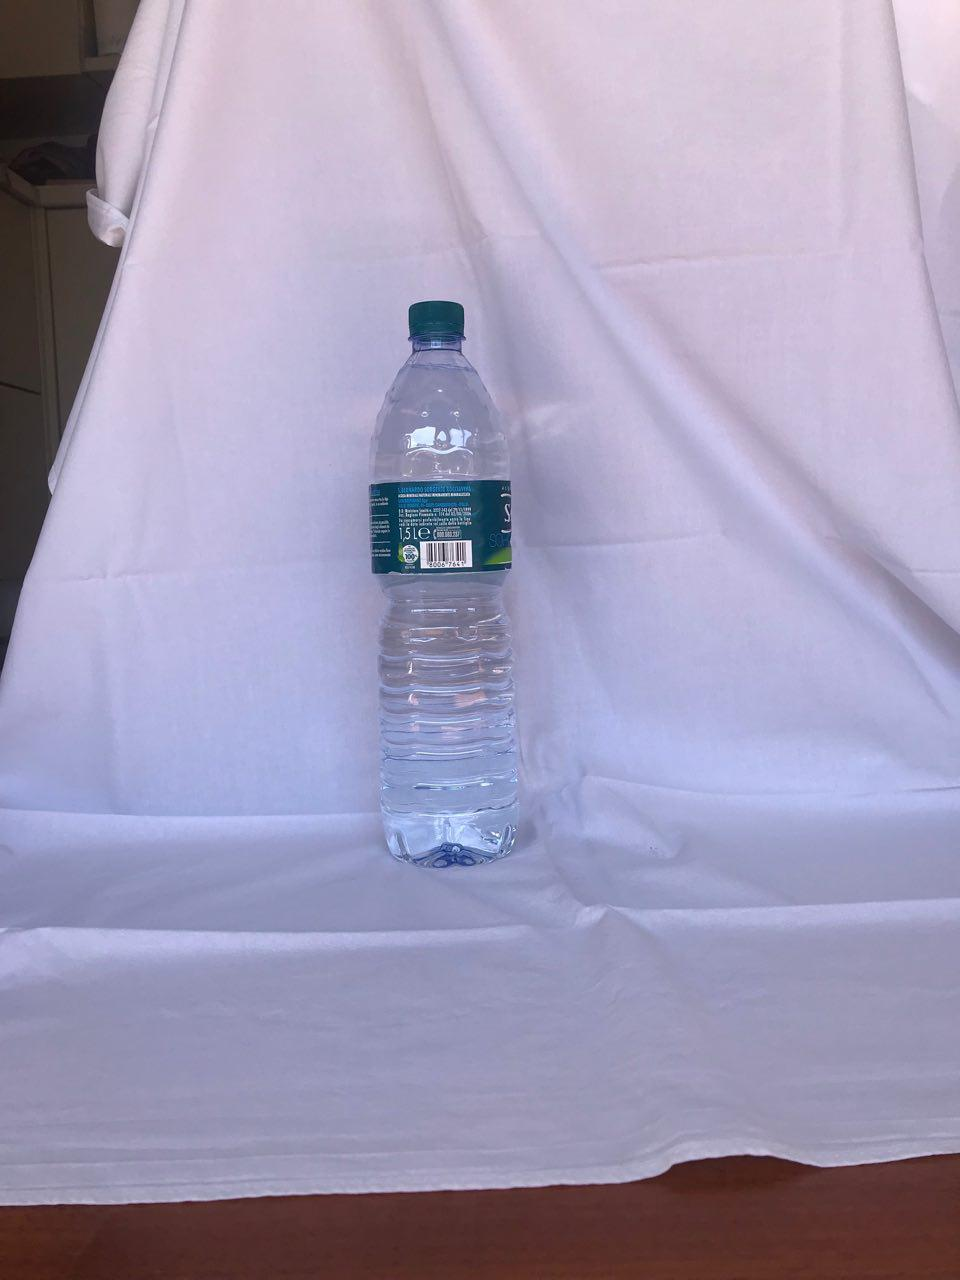san_bernardo: (367, 299, 522, 870)
